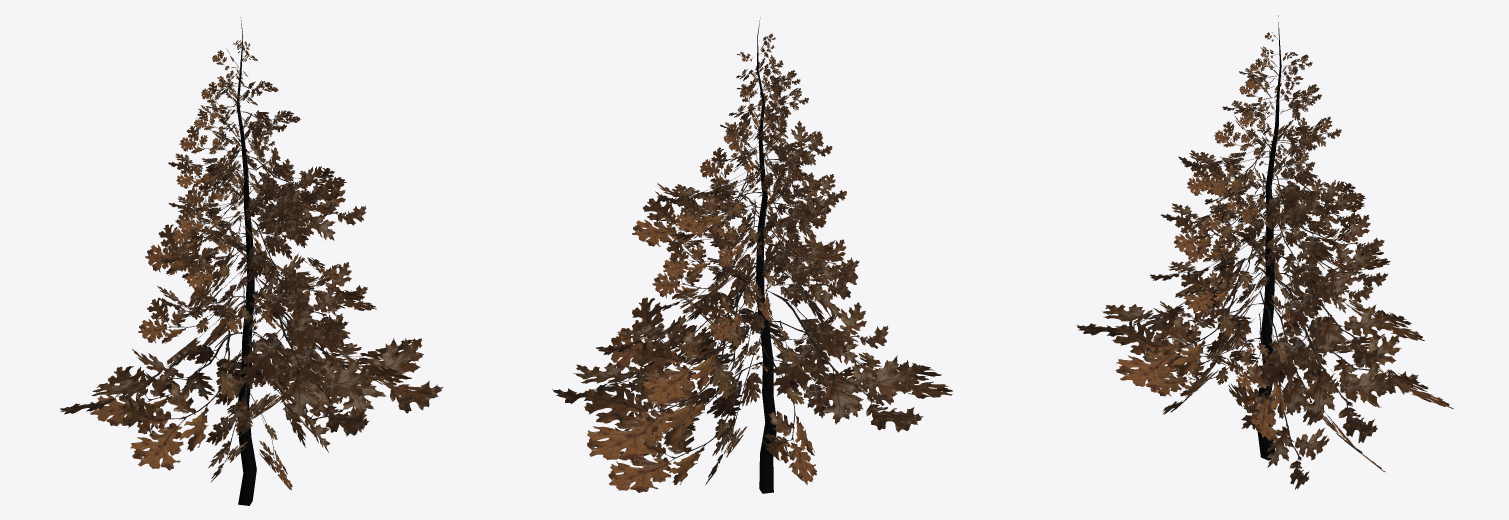
Rendered from spruce5 lod0.FBX.
3 renders of one model, left to right at view 1: azimuth 30°, elevation 25°; view 2: azimuth 150°, elevation 25°; view 3: azimuth 270°, elevation 25°, orthographic. The views are drawn at different scales.
Parts seen in each view (by area): view 1: spruce5; view 2: spruce5; view 3: spruce5.
Boxes of the visible parts, box(x1,y1,x2,y2) form: spruce5: box(60, 17, 443, 505); spruce5: box(552, 18, 952, 493); spruce5: box(1077, 15, 1453, 489).
Size of the model in its own units: 130413 by 146007 by 136959.
